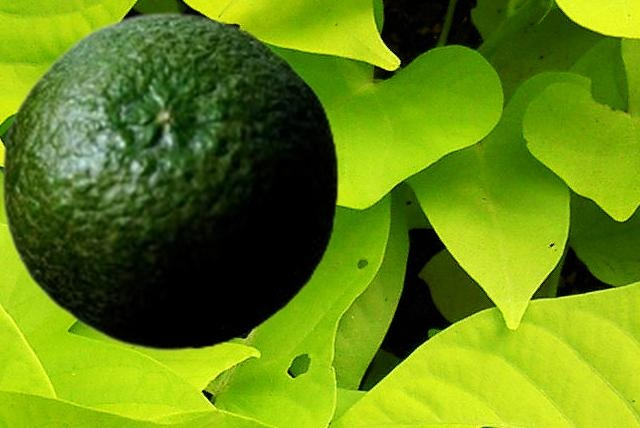calamansi: (0, 11, 338, 351)
